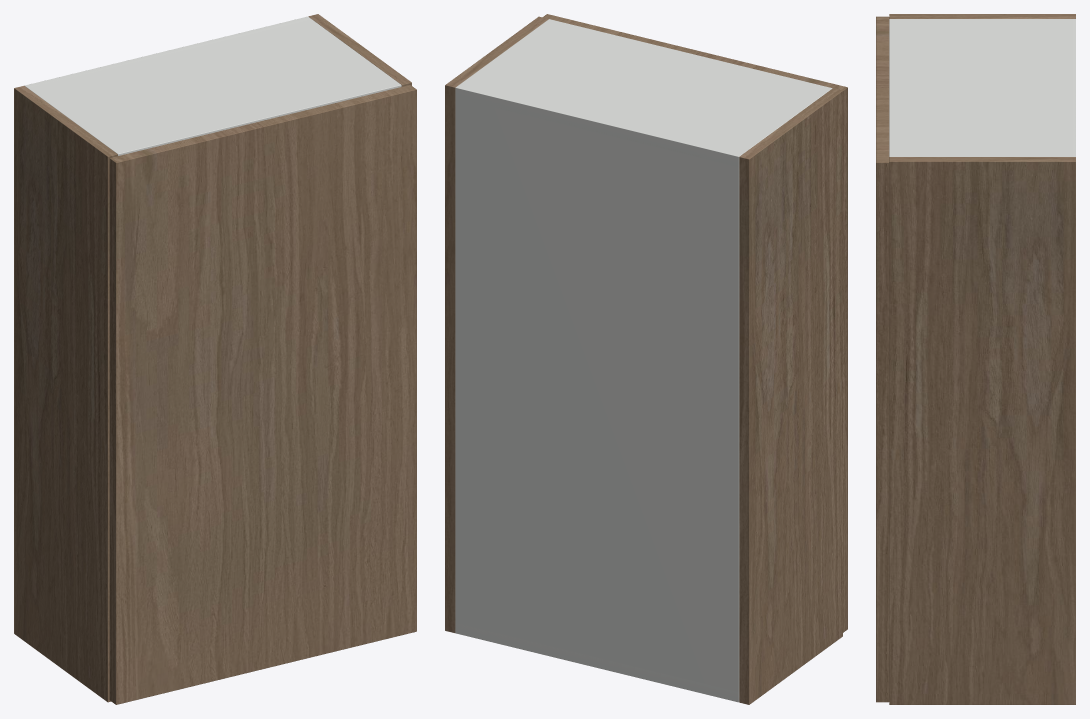
The model's file is oppein-pb-mnw-w1236.glb.
3 renders of one model, left to right at view 1: azimuth 30°, elevation 25°; view 2: azimuth 150°, elevation 25°; view 3: azimuth 270°, elevation 25°, orthographic.
Parts seen in each view (by area): view 1: Door, Cabinet side, Cabinet top, Cabinet back, Cabinet side.001; view 2: Cabinet back, Cabinet side, Cabinet top, Cabinet side.001, Door, Cabinet bottom; view 3: Cabinet side.001, Cabinet top, Door, Cabinet back, Cabinet side.
Part boxes in pixels (box(x1,y1,x2,y2)): Door: box(109, 85, 416, 704); Cabinet side: box(14, 86, 117, 702); Cabinet top: box(25, 19, 401, 155); Cabinet back: box(25, 16, 310, 87); Cabinet side.001: box(308, 14, 411, 86); Cabinet back: box(455, 85, 742, 702); Cabinet side: box(739, 88, 842, 704); Cabinet top: box(455, 19, 832, 166); Cabinet side.001: box(445, 16, 548, 632); Door: box(542, 14, 847, 632); Cabinet bottom: box(455, 623, 739, 701); Cabinet side.001: box(889, 157, 1075, 704); Cabinet top: box(889, 19, 1075, 156); Door: box(876, 16, 889, 702); Cabinet back: box(1068, 19, 1075, 156); Cabinet side: box(889, 14, 1075, 18).
Bounding box in the file's own units: 0.5334 × 0.9144 × 0.3048.
Materials: 2 (1 with a texture image).
